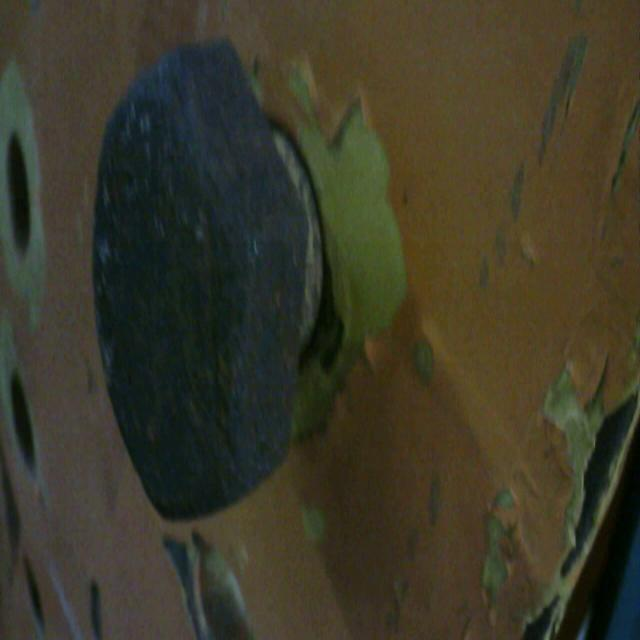Loose bolt: (89, 36, 328, 526)
Missing bolt: (195, 539, 254, 640), (4, 127, 37, 255), (9, 366, 39, 480), (22, 548, 48, 640)
Rusty bolt: (98, 37, 322, 521)
